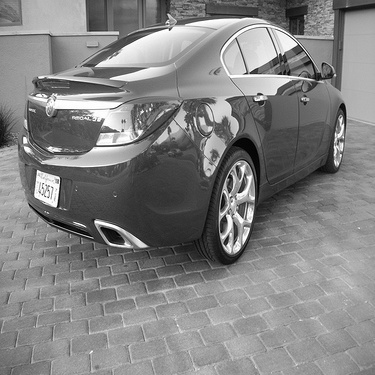car: (12, 9, 350, 265)
